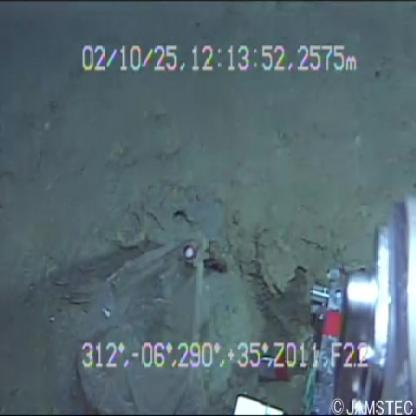Rov: (228, 163, 416, 415)
Rác: (68, 210, 234, 416)
